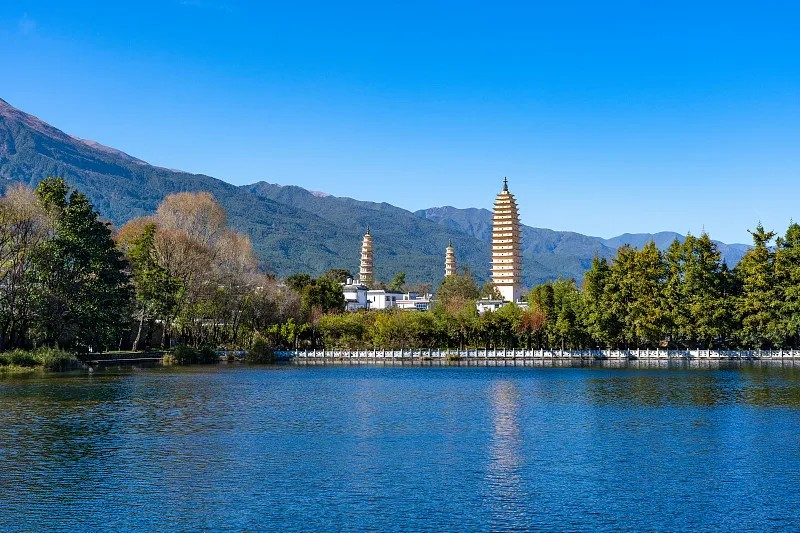ThreePagoda: (489, 177, 522, 301)
